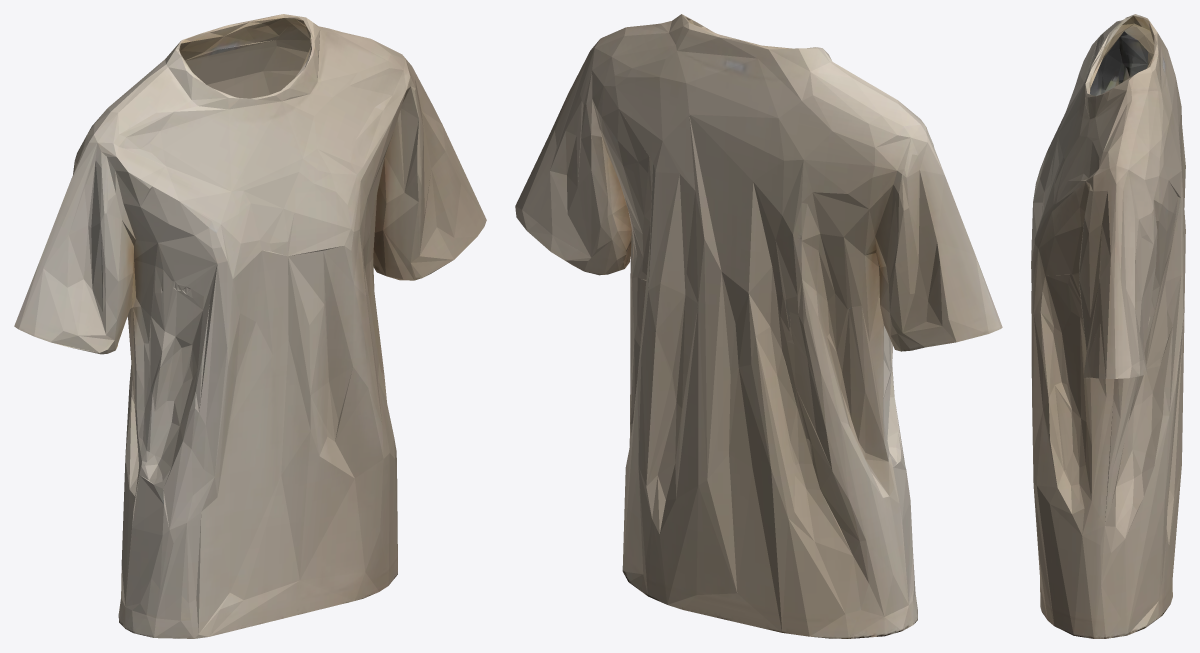
3 views of the same model, side by side, from view 1: azimuth 30°, elevation 25°; view 2: azimuth 150°, elevation 25°; view 3: azimuth 270°, elevation 25° (orthographic). The views are drawn at different scales.
Visible parts, largest first — view 1: geometry_0; view 2: geometry_0; view 3: geometry_0.
Boxes of the visible parts, x1=… form: geometry_0: x1=14, y1=14, x2=486, y2=638; geometry_0: x1=515, y1=14, x2=1002, y2=638; geometry_0: x1=1031, y1=14, x2=1185, y2=638.
Size of the model in its own units: 0.8878 by 1 by 0.2632.
1 material, 1 textured.
